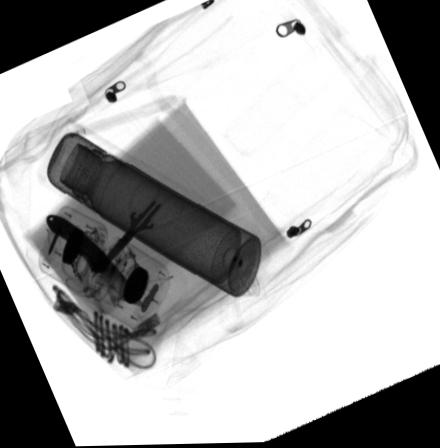Knife: (45, 214, 144, 307)
Scissors: (91, 175, 186, 278)
